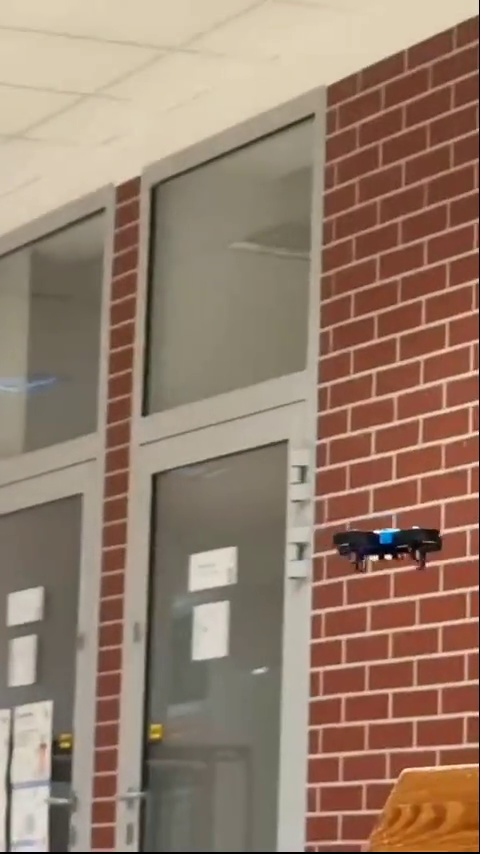drone: (331, 524, 447, 575)
